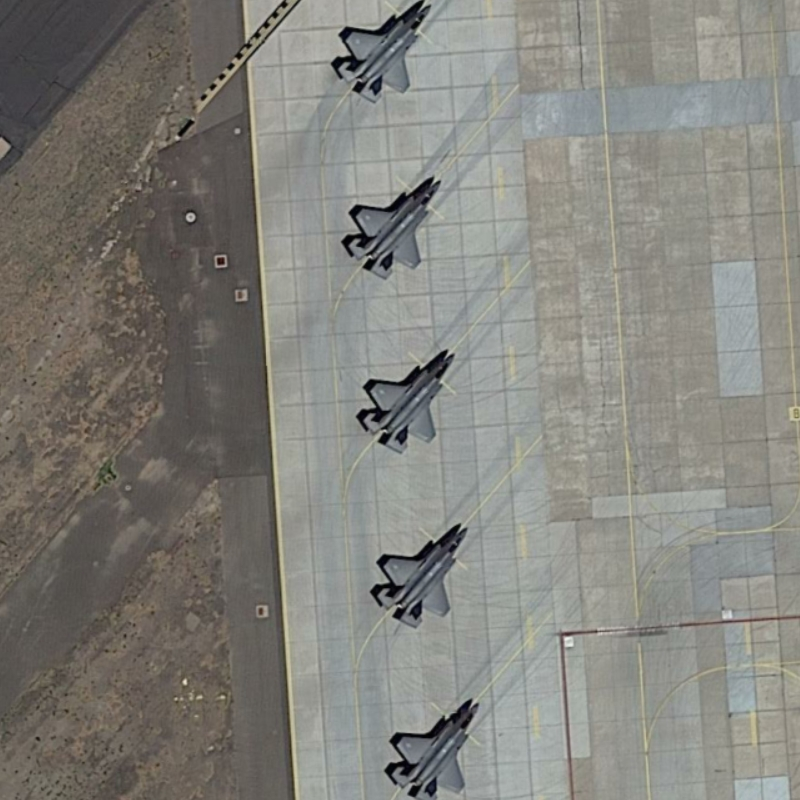A15: (364, 516, 473, 633), (338, 168, 445, 281), (350, 347, 456, 457), (382, 695, 485, 800), (329, 6, 438, 105)
